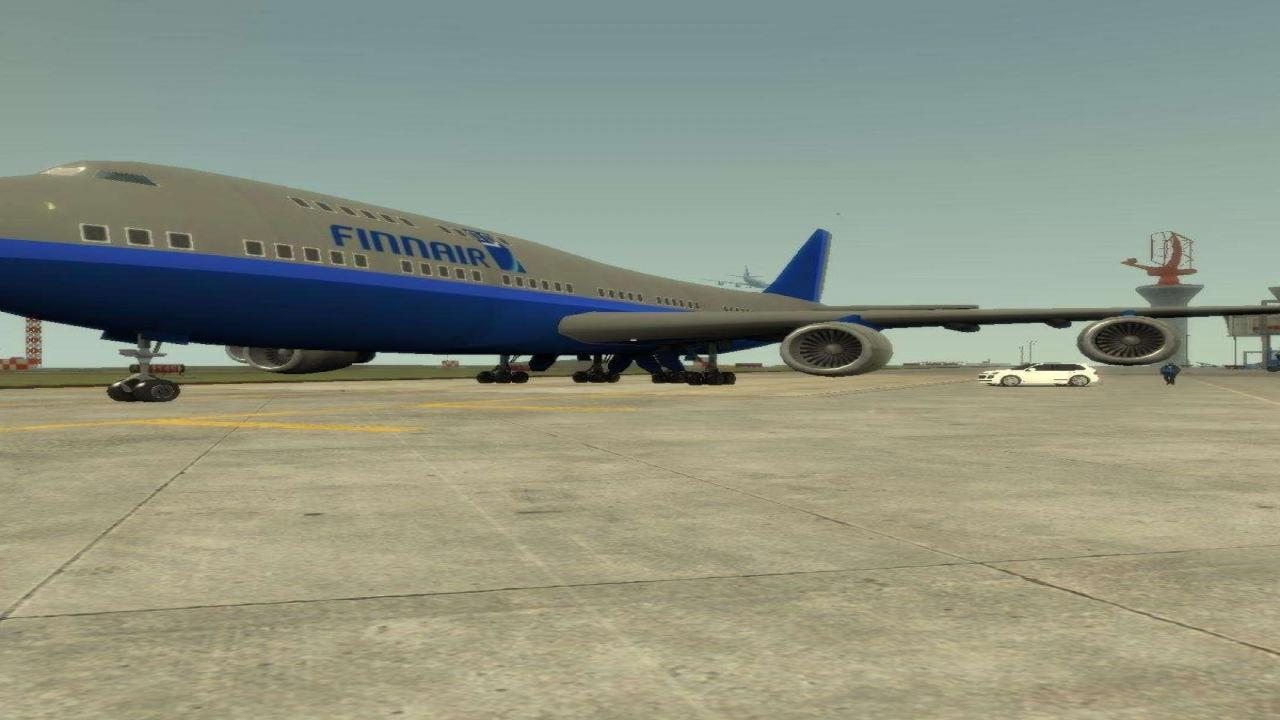Airplane: (0, 148, 1280, 411)
